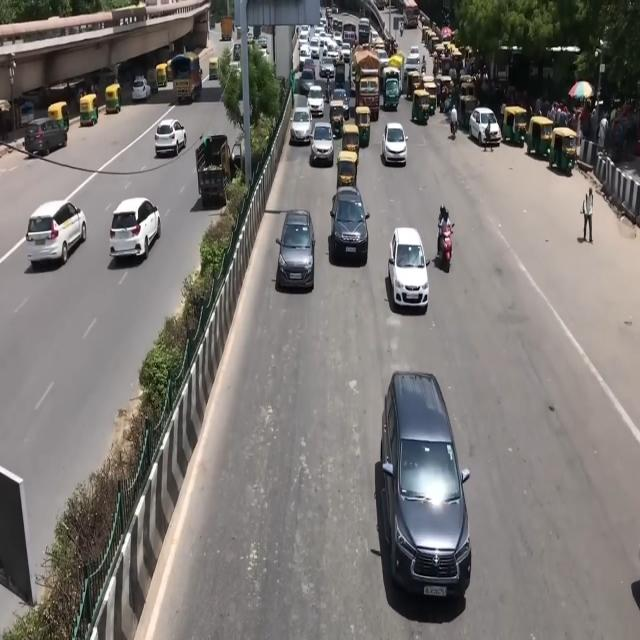auto: (550, 126, 578, 173), (525, 115, 554, 160), (501, 105, 528, 148), (381, 66, 401, 112), (336, 149, 359, 188), (411, 86, 431, 126), (354, 104, 372, 148), (341, 122, 360, 161), (329, 98, 346, 139), (79, 93, 99, 126), (460, 94, 478, 130), (422, 78, 438, 116), (105, 82, 122, 114), (334, 56, 346, 88), (156, 63, 168, 89), (165, 59, 174, 83)
bike-auto: (434, 202, 458, 300), (327, 78, 334, 104), (432, 56, 438, 80), (421, 55, 427, 74), (399, 20, 404, 37)
